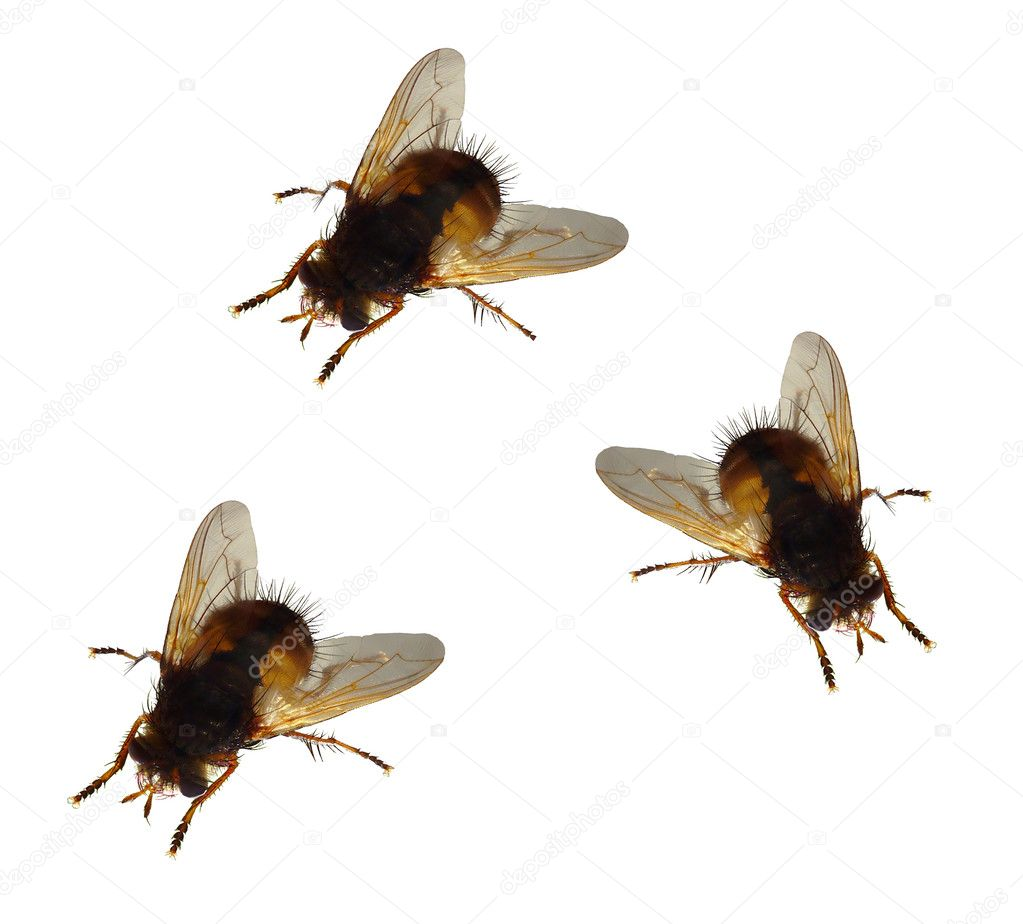house fly: (67, 483, 445, 889), (219, 46, 640, 385), (564, 327, 948, 696)
